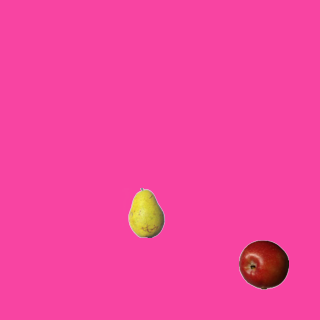Apple Braeburn: (238, 239, 288, 289)
Pear Monster: (121, 187, 171, 237)
